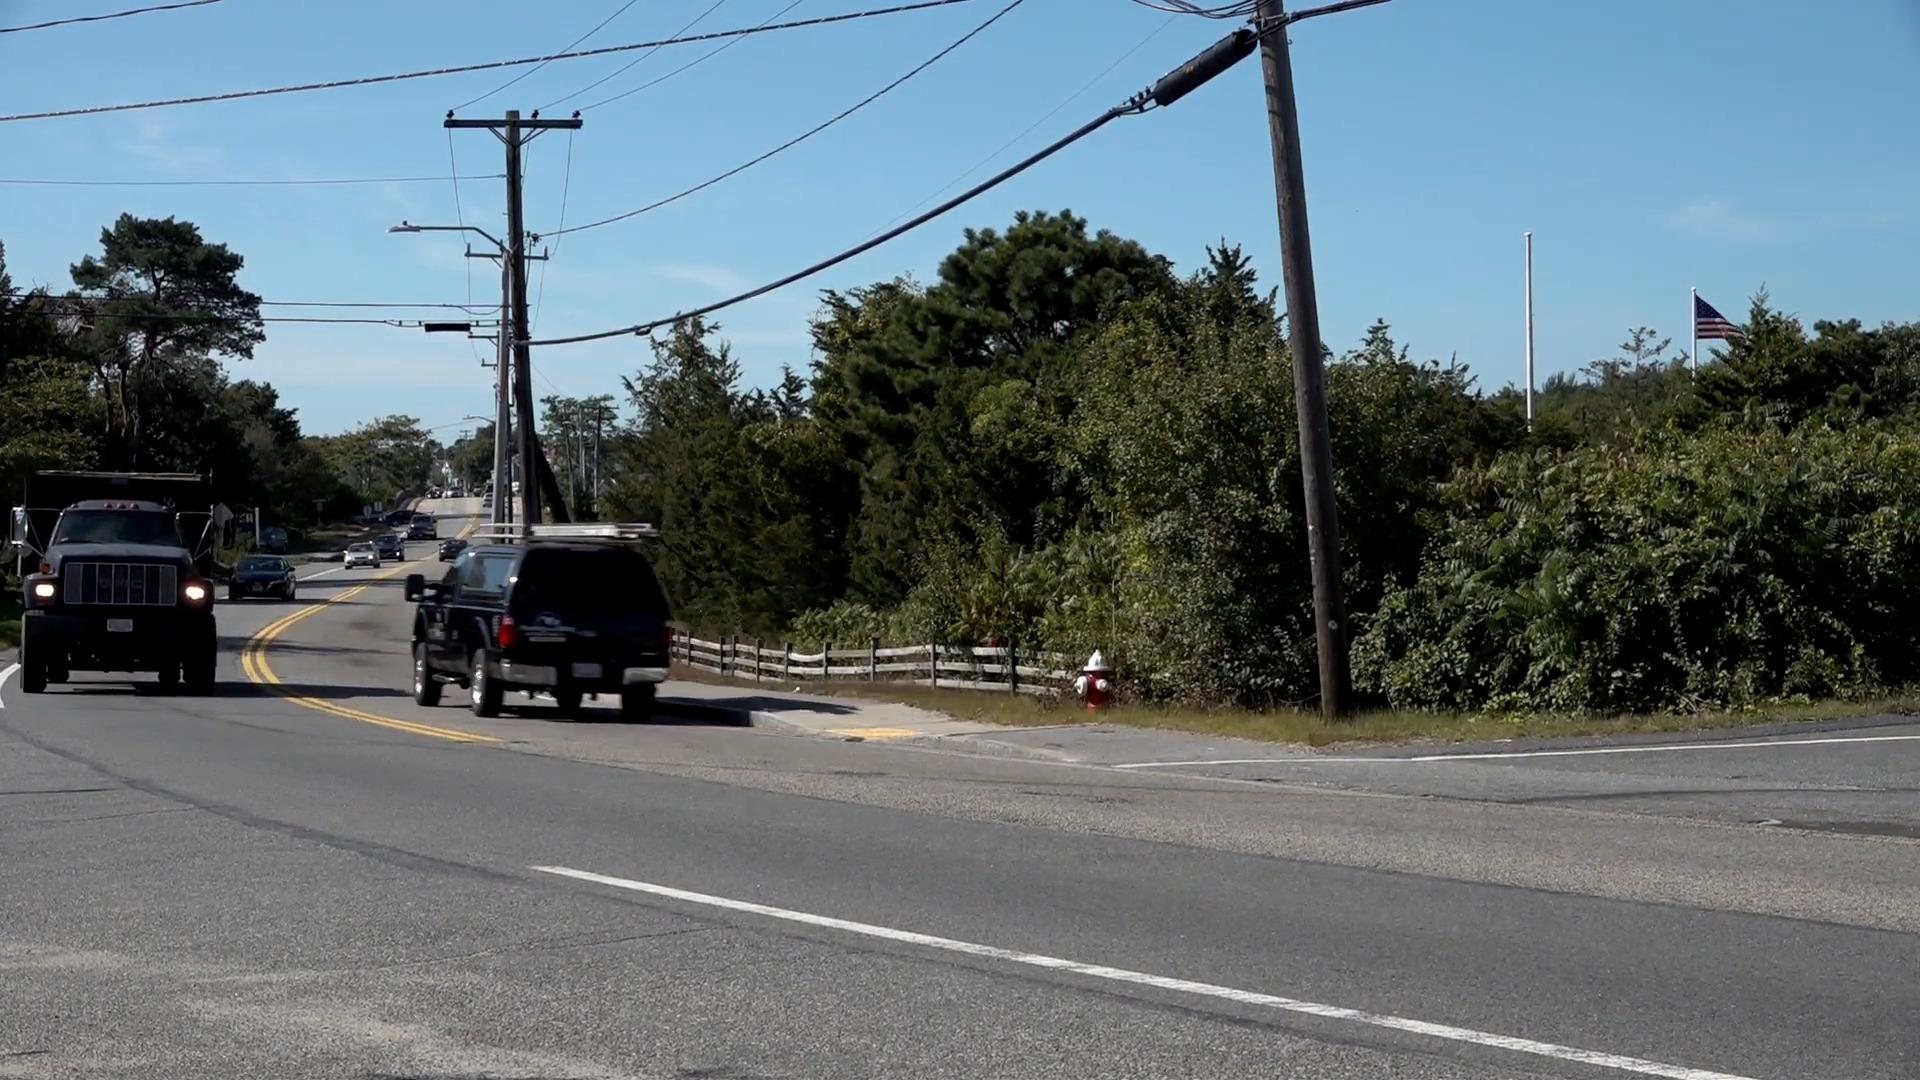pickup: (401, 531, 671, 724)
truck: (15, 458, 216, 698)
